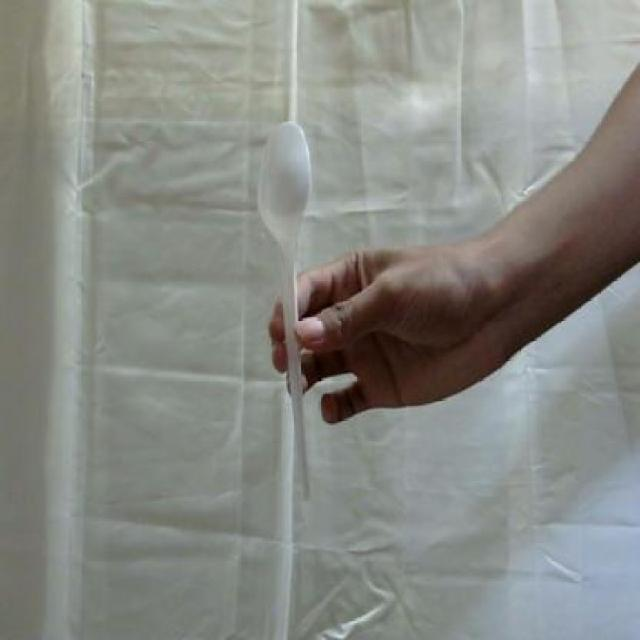Plastic: (259, 121, 316, 501)
